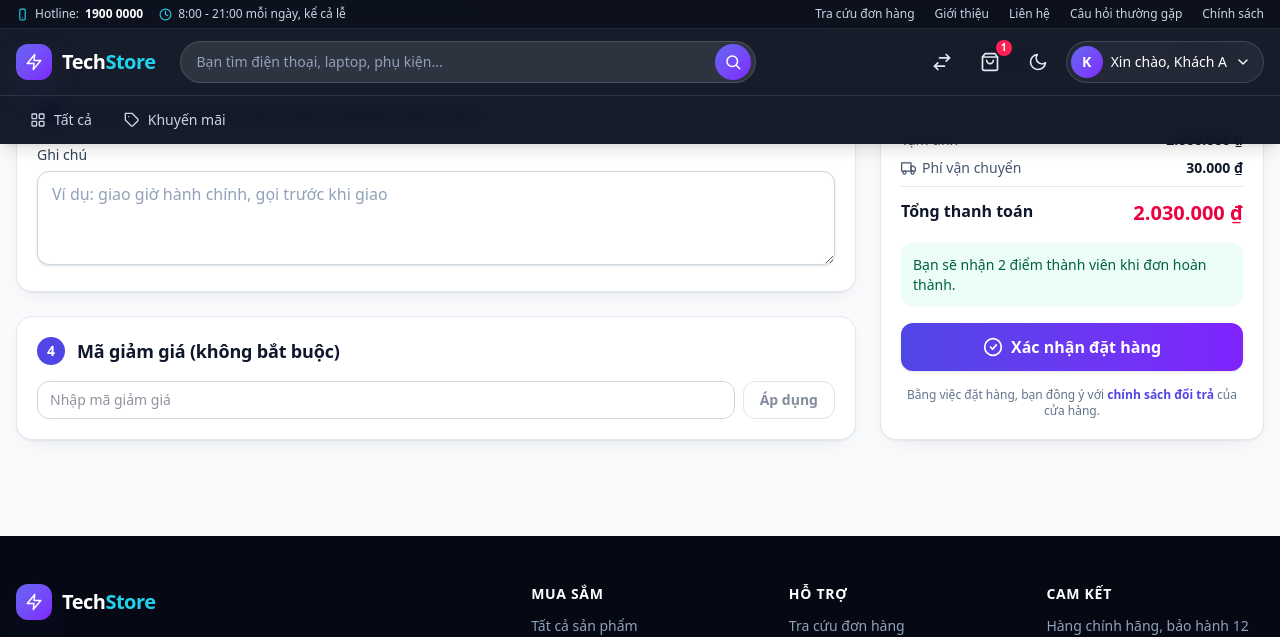
Test case: Ô nhập mã giảm giá ở trang đặt hàng (US-25) › mã sai hoặc hết hạn: nói đúng lý do, không giảm tiền (AC2)
(page scrolled)
Type "HETHAN" into the field labelled "mã giảm giá" at (386, 400), box [37,381,735,419]
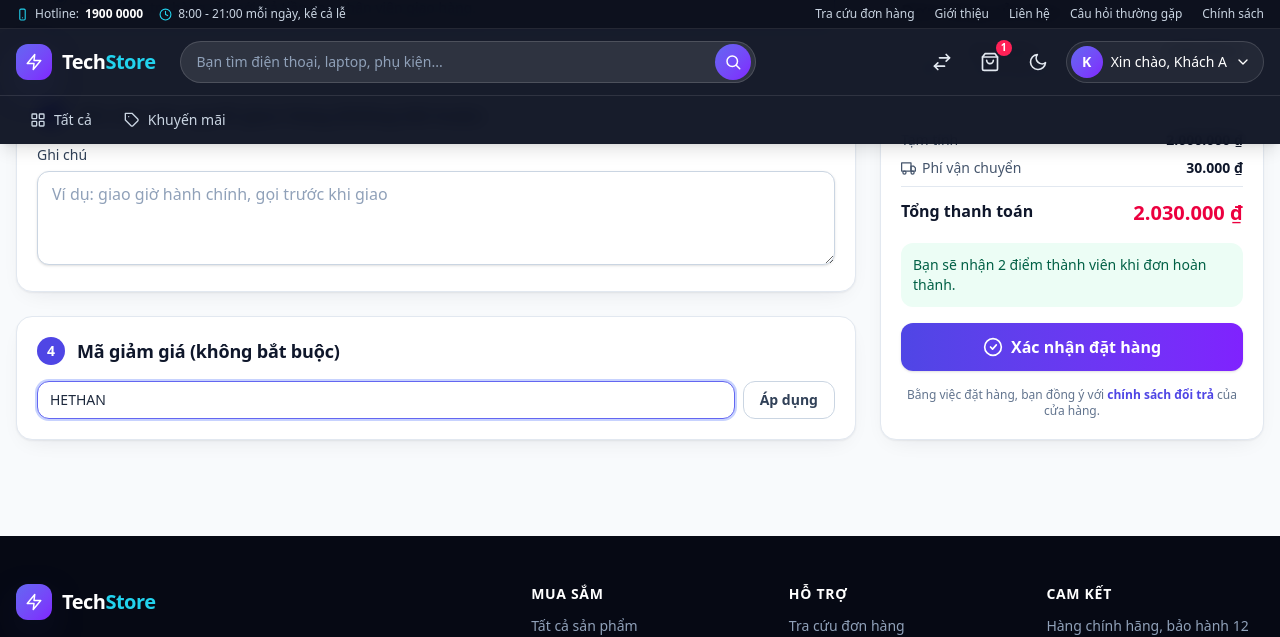
Click the button "Áp dụng" at (789, 400), box [743,381,835,419]
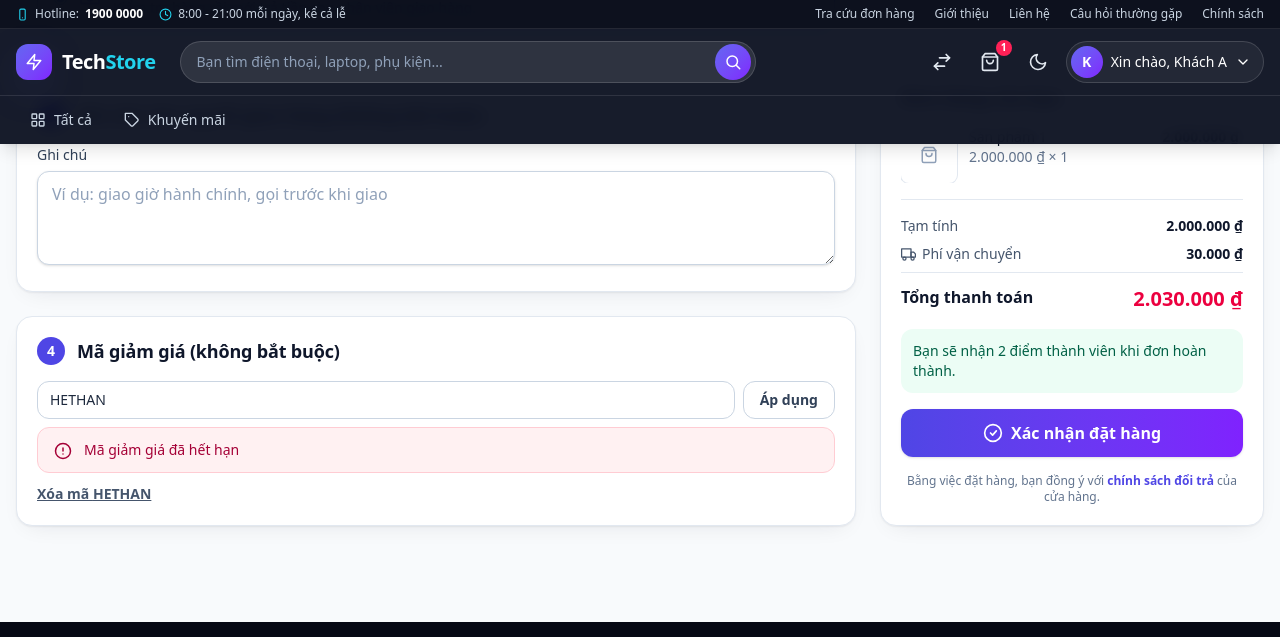
Expected: the text "2.030.000 ₫" is shown, [1133,285,1243,313]
Expected: the text "Mã giảm giá đã hết hạn" is shown, [84,440,239,460]
